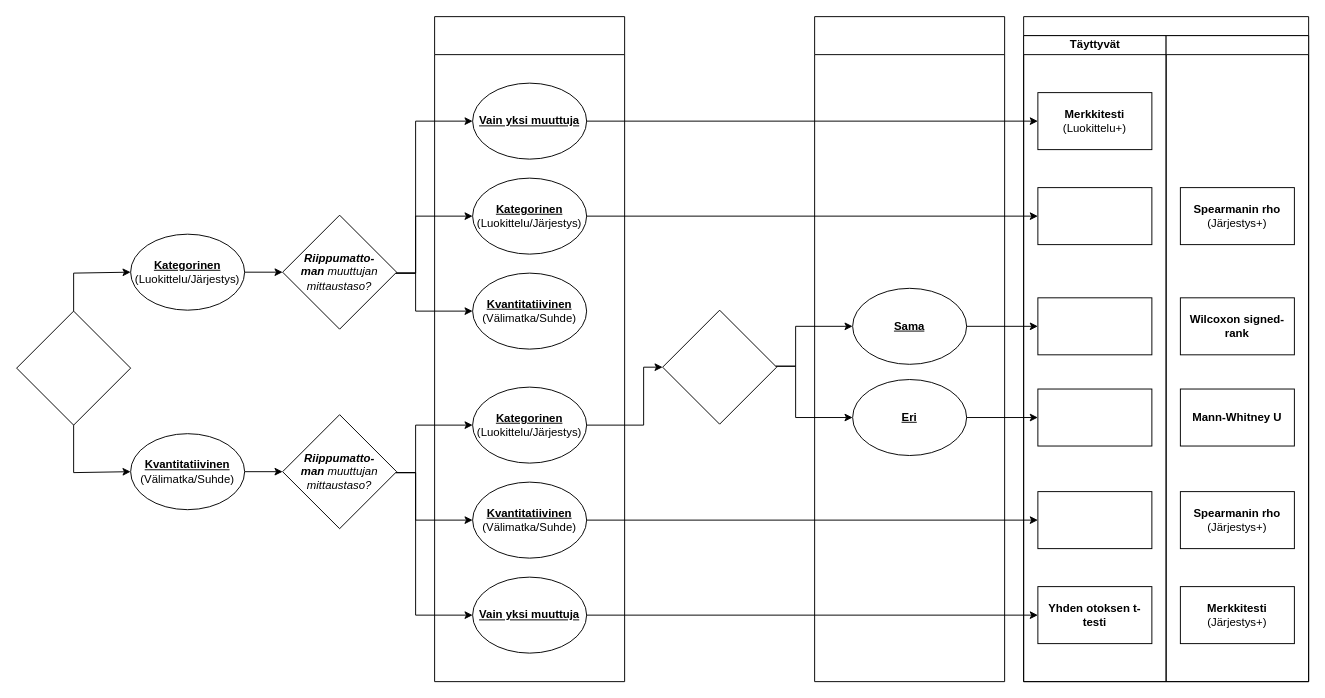
Some shapes in this 1325 by 698 pixel diagram are drawn without their labels. Here are the shapes that lost their labels. From the top down, the box of each, then its label:
(1037, 187, 1152, 245): Khiin neliö
(1037, 297, 1152, 355): Parittainen t-testi
(16, 310, 131, 425): Riippuvaisen muuttujan mittaustaso?
(434, 16, 625, 682): Riippumattoman muuttujan mittaustaso?
(662, 309, 777, 424): Samat vai eri analyysi- yksiköt?
(814, 16, 1005, 682): Samat vai eri analyysiyksiköt?
(1023, 16, 1309, 682): Mallioletukset
(1165, 35, 1309, 682): Eivät täyty
(1037, 388, 1152, 446): Welchin t-testi
(1037, 491, 1152, 549): Pearsonin korrelaatio
